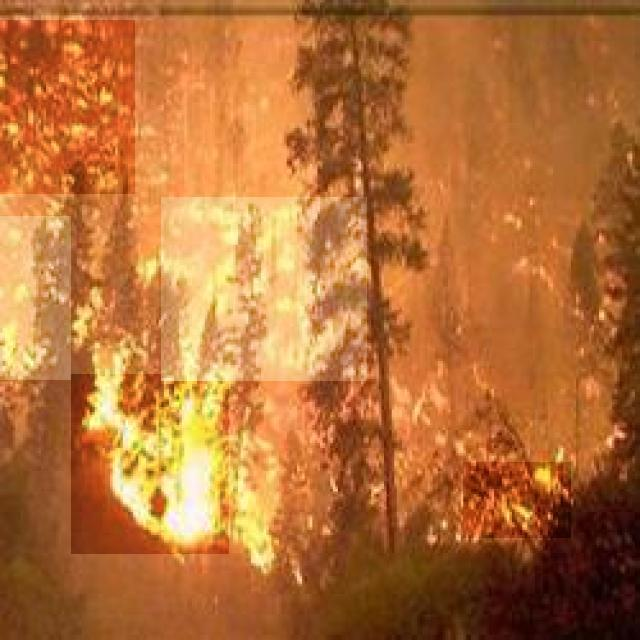Fire: (161, 198, 367, 382), (71, 374, 229, 554), (0, 20, 135, 194), (0, 216, 71, 380), (463, 462, 571, 538)
